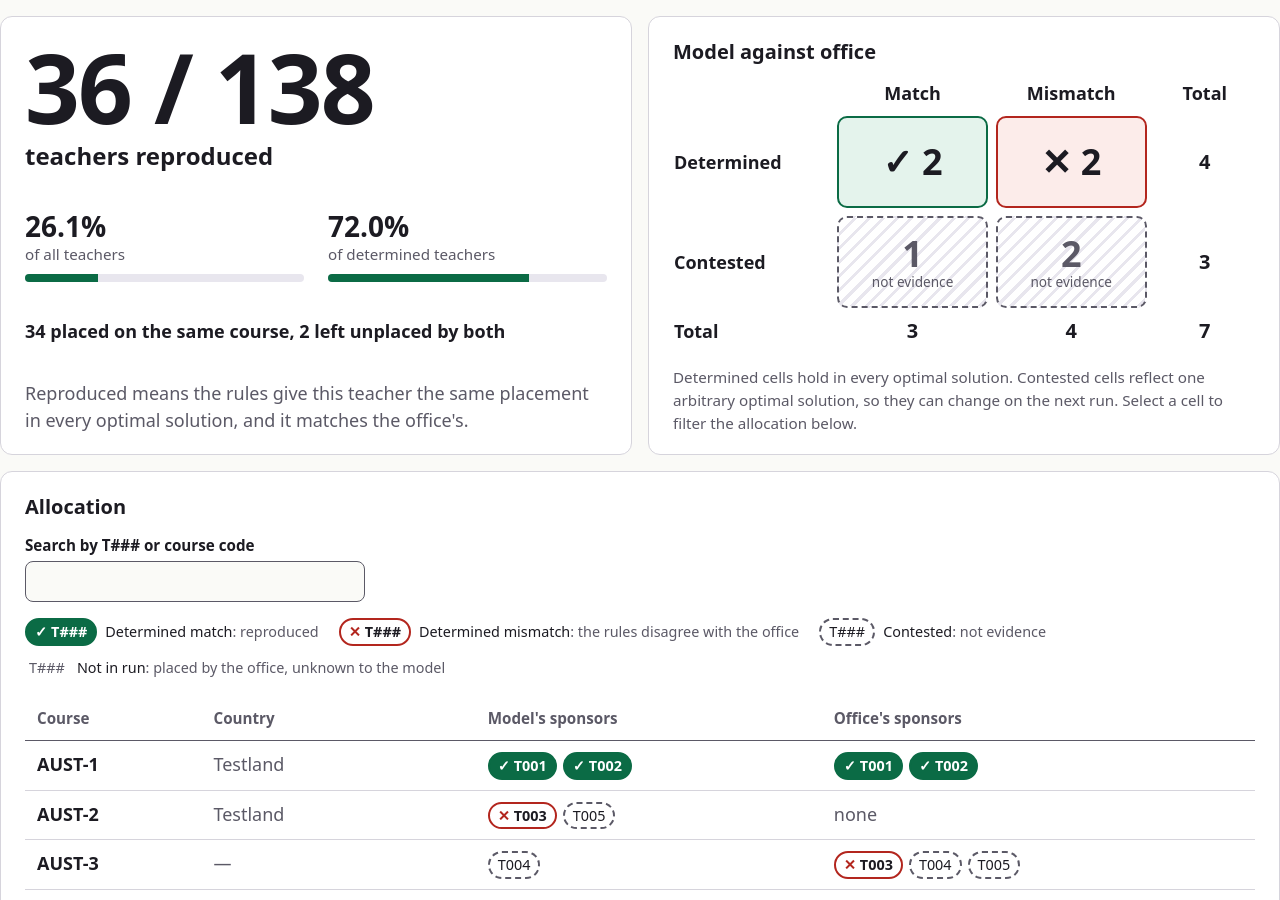
Scenario: Results matrix › clicking a cell filters courses
What coordinates should you click on to do the following:
click the button named "Determined mismatch"
I would click on:
 (1071, 162)
Its box is left=996, top=116, right=1147, bottom=208.
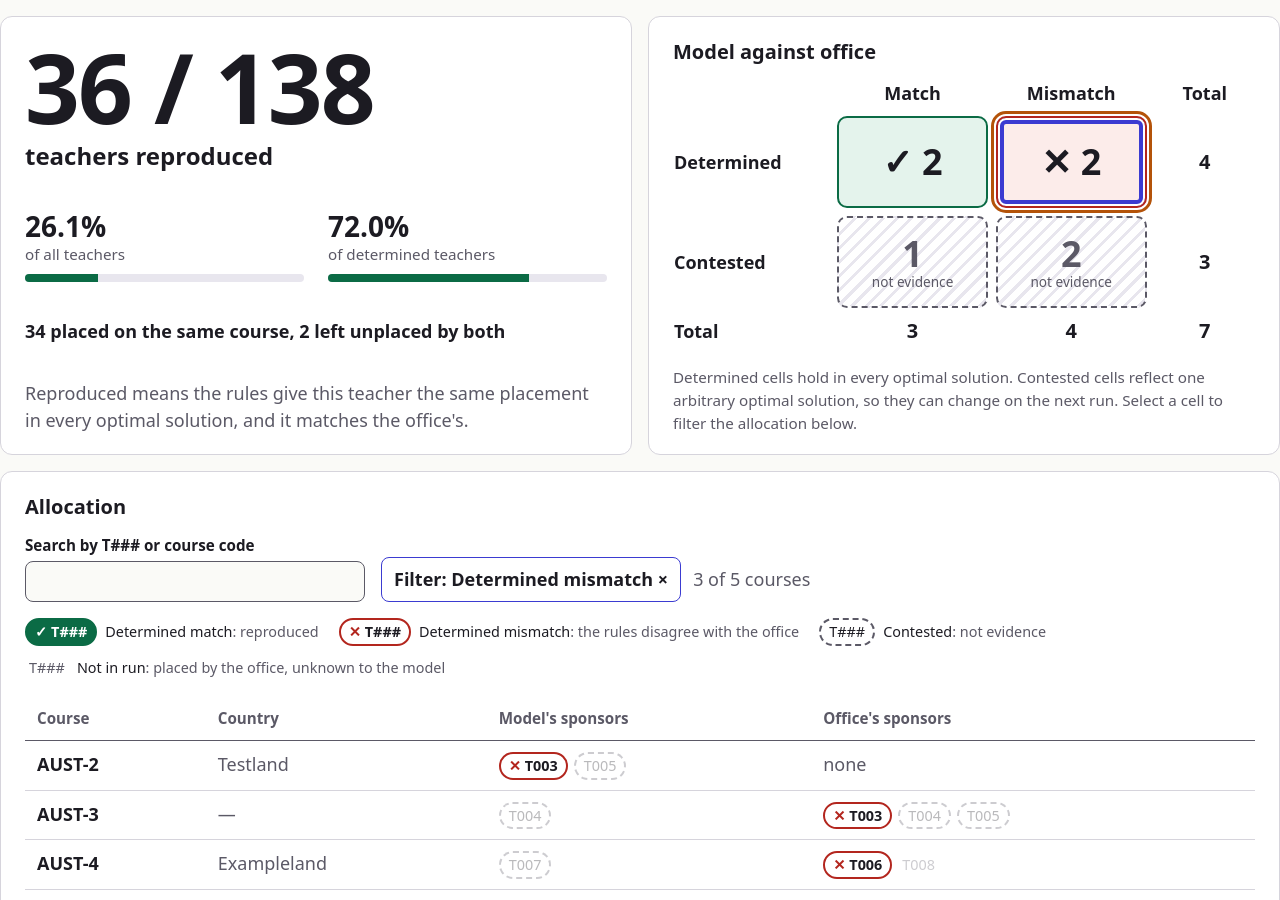
Check: the button named "Determined mismatch" is pressed
Check: the picture named "T004: contested" has class "chip--dimmed", box left=499, top=802, right=551, bottom=829
Check: the picture named "T008: not in run" has class "chip--dimmed", box left=902, top=855, right=935, bottom=874
What coordinates should you click on to do the following:
click the button named "Determined mismatch"
I would click on:
 (1071, 162)
Its box is left=996, top=116, right=1147, bottom=208.
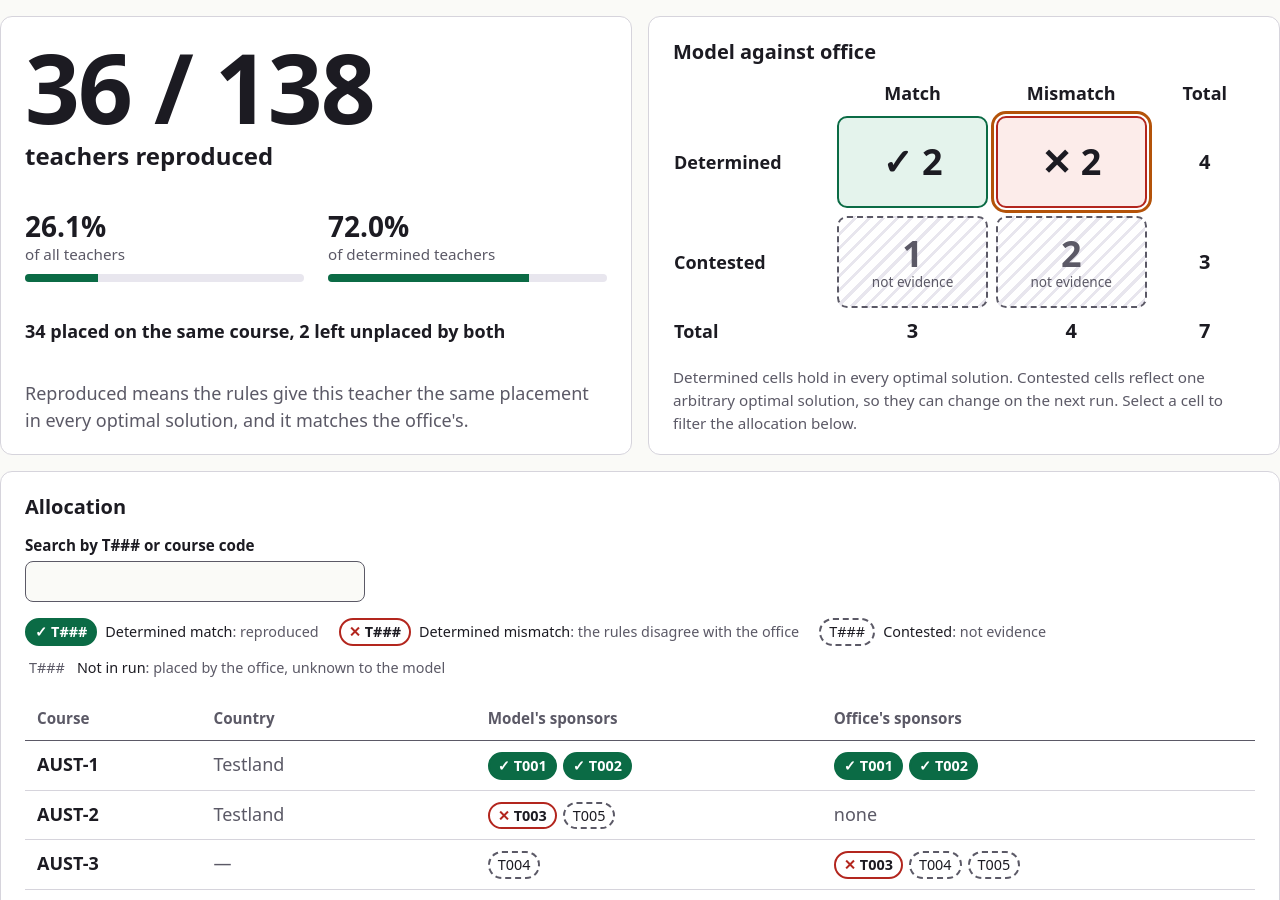
Check: the button named "Determined mismatch" is not pressed, box left=996, top=116, right=1147, bottom=208
